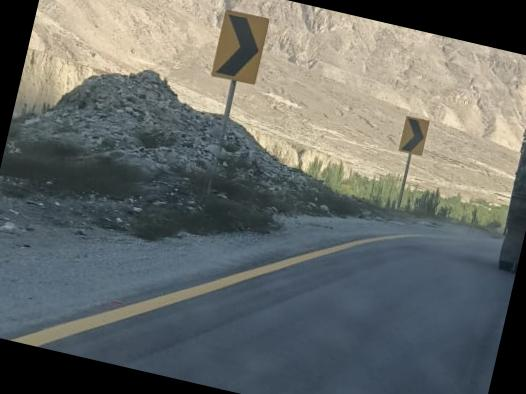left_turn: (438, 142, 526, 302), (210, 12, 266, 85), (397, 115, 429, 158)
